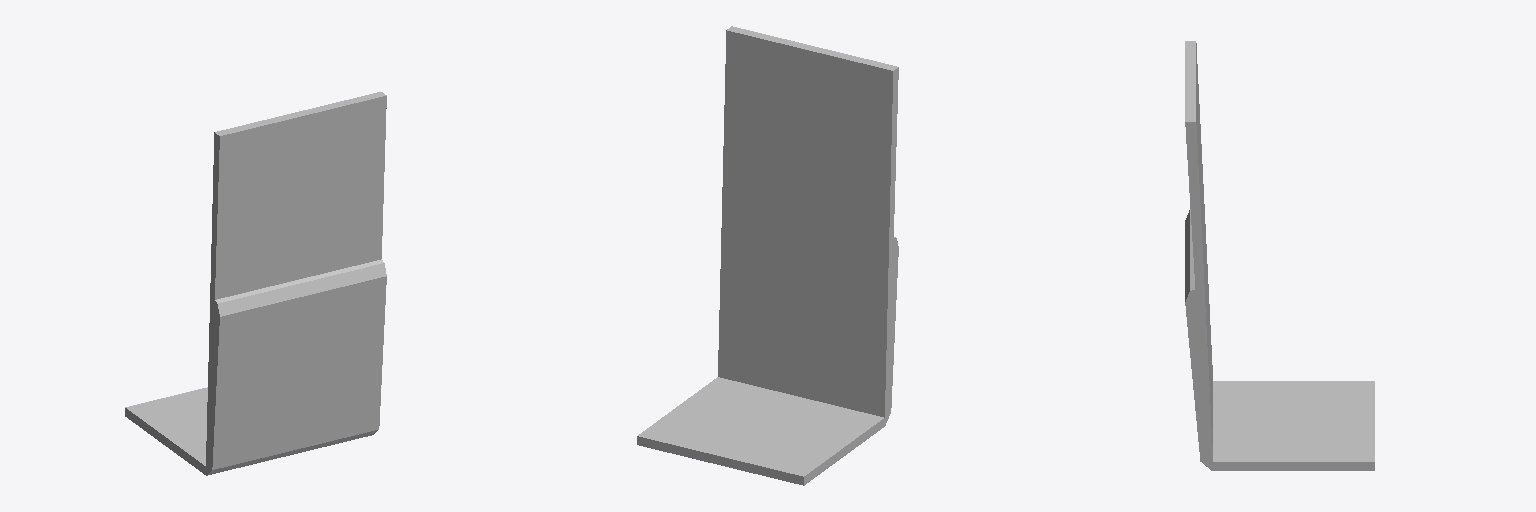
The model's file is base_building_bottom_edge_tile.obj.
The picture shows the model from 3 angles: view 1: azimuth 30°, elevation 25°; view 2: azimuth 150°, elevation 25°; view 3: azimuth 270°, elevation 25°; orthographic projection.
Parts seen in each view (by area): view 1: bottom_edge_Cube.010; view 2: bottom_edge_Cube.010; view 3: bottom_edge_Cube.010.
Boxes of the visible parts, x1=… form: bottom_edge_Cube.010: x1=125, y1=92, x2=386, y2=475; bottom_edge_Cube.010: x1=637, y1=26, x2=898, y2=485; bottom_edge_Cube.010: x1=1185, y1=41, x2=1374, y2=470.
Size of the model in its own units: 2 by 4 by 1.97.